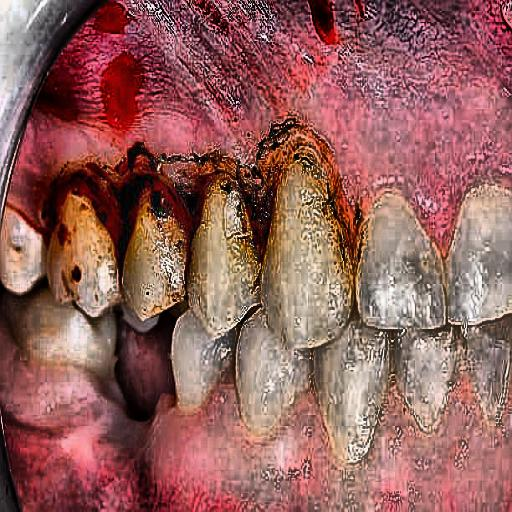Calculus: (16, 131, 376, 332)
